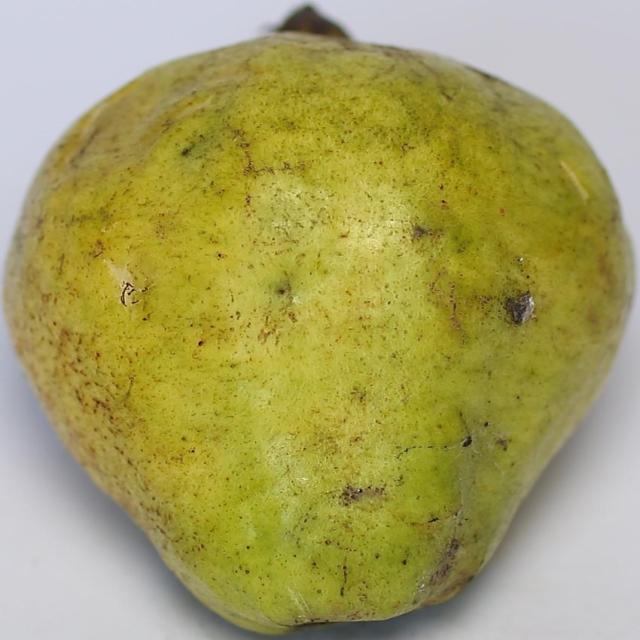Good_Guava: (0, 26, 635, 638)
